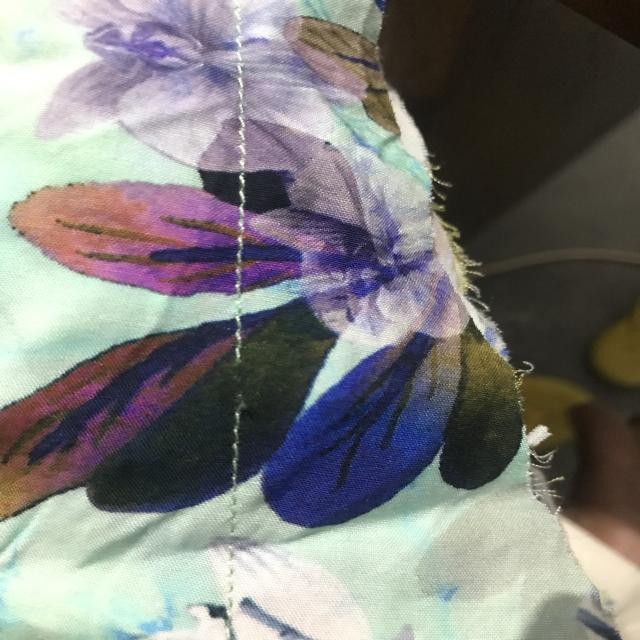broken: (225, 345, 261, 427)
good: (230, 205, 266, 282)
